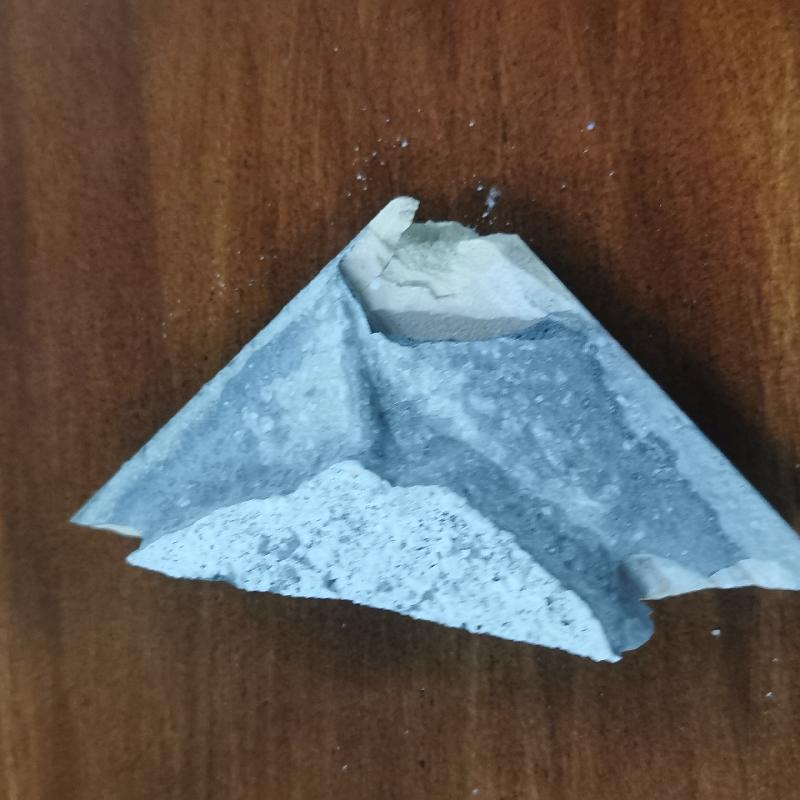tile: (69, 195, 800, 665)
